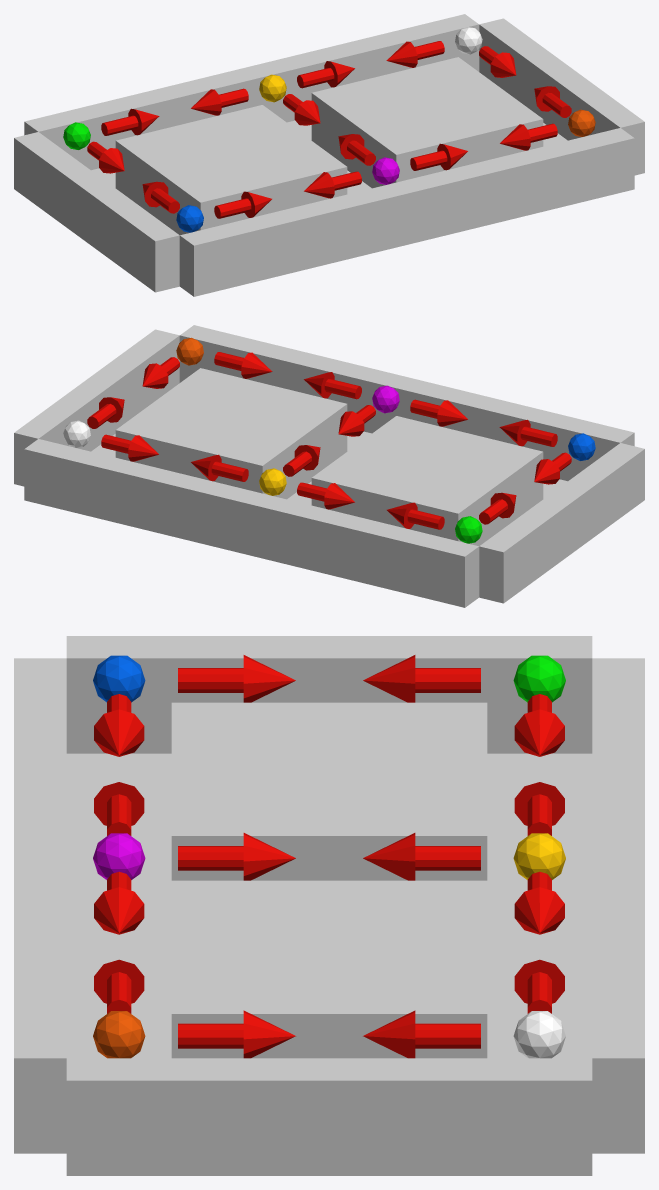
The model's file is testRoomBigger.glb.
The picture shows the model from 3 angles, top to bottom: view 1: azimuth 30°, elevation 25°; view 2: azimuth 150°, elevation 25°; view 3: azimuth 270°, elevation 25°; orthographic projection. The views are drawn at different scales.
Parts seen in each view (by area): view 1: Cube.001, BlueToPink, WhiteToYellow, OrangeToPink, GreenToYellow, PinkToBlue, YellowToGreen, YellowToWhite, PinkToOrange, YellowToPink, PinkToYellow, WhiteToOrange (+9 smaller); view 2: Cube.001, GreenToYellow, OrangeToPink, WhiteToYellow, BlueToPink, YellowToGreen, PinkToBlue, PinkToOrange, YellowToWhite, PinkToYellow, YellowToPink, OrangeToWhite (+9 smaller); view 3: Cube.001, WhiteToOrange, OrangeToWhite, BlueToGreen, YellowToPink, GreenToBlue, PinkToYellow, BlueToPink, GreenToYellow, PinkToOrange, YellowToWhite, YellowToGreen (+9 smaller).
Part boxes in pixels (box(x1,y1,x2,y2)): Cube.001: box(14, 14, 644, 296); BlueToPink: box(214, 191, 271, 218); WhiteToYellow: box(386, 41, 444, 67); OrangeToPink: box(500, 123, 557, 150); GreenToYellow: box(101, 108, 159, 135); PinkToBlue: box(304, 171, 361, 198); YellowToGreen: box(191, 88, 248, 115); YellowToWhite: box(297, 61, 354, 88); PinkToOrange: box(410, 143, 467, 170); YellowToPink: box(283, 94, 320, 125); PinkToYellow: box(338, 134, 375, 165); WhiteToOrange: box(479, 46, 516, 77); Cube.001: box(14, 325, 644, 607); GreenToYellow: box(387, 502, 444, 529); OrangeToPink: box(214, 352, 272, 378); WhiteToYellow: box(101, 434, 158, 461); BlueToPink: box(499, 419, 557, 446); YellowToGreen: box(297, 482, 354, 509); PinkToBlue: box(410, 399, 467, 426); PinkToOrange: box(304, 372, 361, 399); YellowToWhite: box(191, 454, 248, 481); PinkToYellow: box(338, 405, 375, 436); YellowToPink: box(283, 445, 320, 476); OrangeToWhite: box(142, 357, 179, 388); Cube.001: box(14, 636, 644, 1175); WhiteToOrange: box(363, 1010, 480, 1058); OrangeToWhite: box(178, 1010, 295, 1058); BlueToGreen: box(178, 655, 295, 702); YellowToPink: box(363, 833, 480, 880); GreenToBlue: box(363, 655, 480, 702); PinkToYellow: box(178, 833, 295, 880); BlueToPink: box(94, 694, 144, 756); GreenToYellow: box(514, 694, 564, 756); PinkToOrange: box(94, 871, 144, 934); YellowToWhite: box(514, 871, 564, 934); YellowToGreen: box(514, 782, 564, 835).
Size of the model in its own units: 20 by 2.5 by 12.
